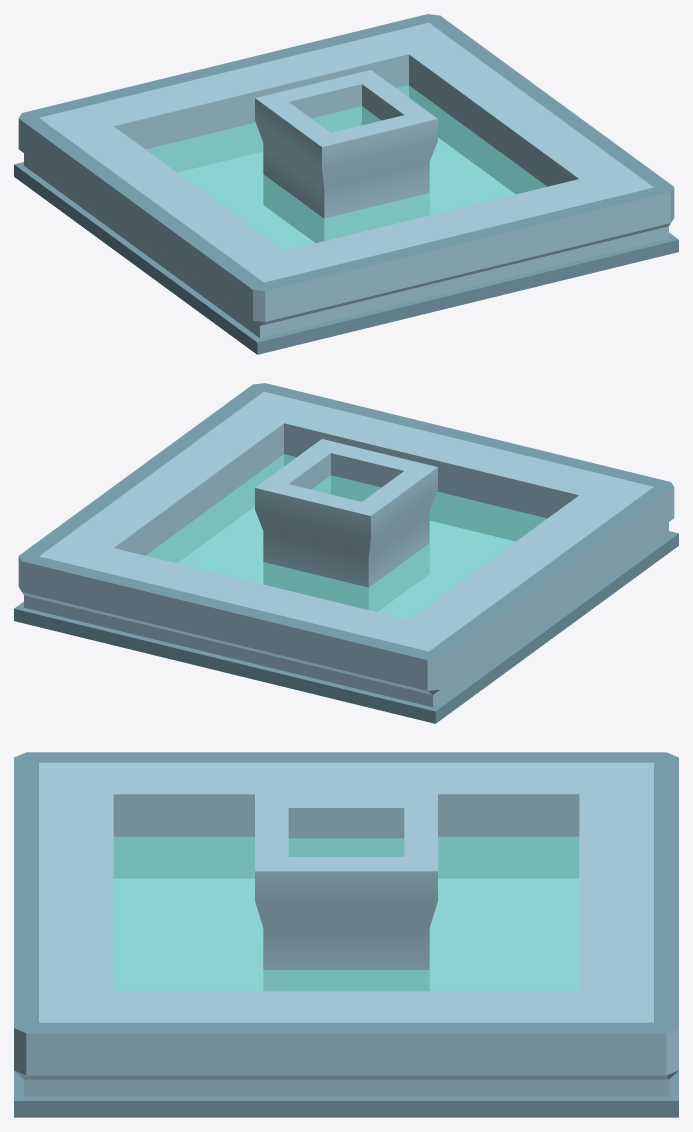
File: fountainSquareDetail.glb
The picture shows the model from 3 angles, top to bottom: view 1: azimuth 30°, elevation 25°; view 2: azimuth 150°, elevation 25°; view 3: azimuth 270°, elevation 25°; orthographic projection. The views are drawn at different scales.
Parts seen in each view (by area): view 1: fountainSquareDetail; view 2: fountainSquareDetail; view 3: fountainSquareDetail.
Boxes of the visible parts, x1,y1,x2,y2 form: fountainSquareDetail: (14, 14, 678, 354); fountainSquareDetail: (14, 383, 678, 723); fountainSquareDetail: (14, 752, 678, 1117).
Size of the model in its own units: 2 by 0.48 by 2.
